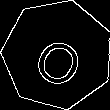O_NE: (26, 22, 88, 87)
